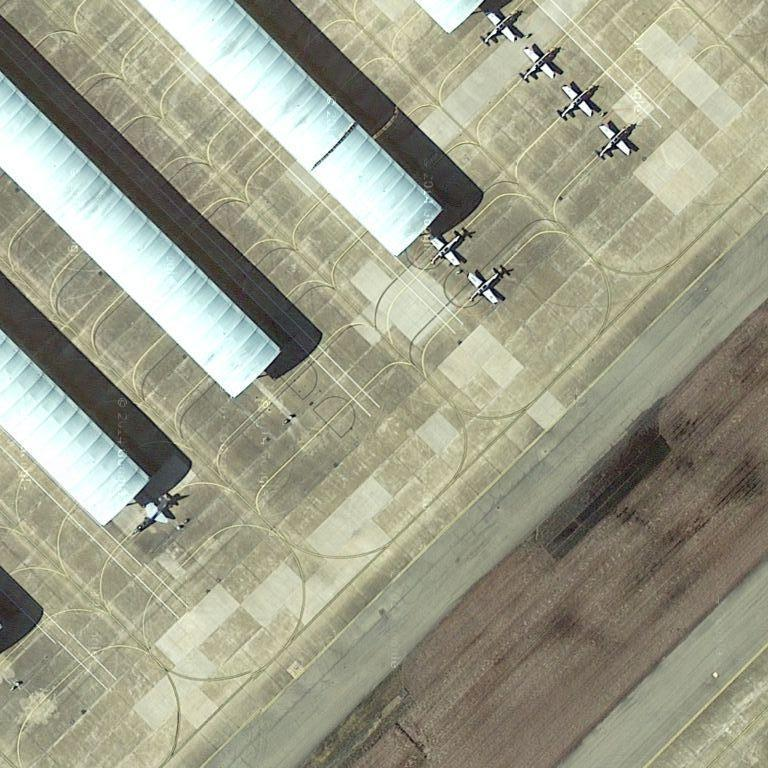plane: (130, 488, 182, 538), (476, 4, 526, 50), (463, 263, 510, 310), (426, 224, 471, 273), (517, 41, 561, 90), (594, 117, 638, 165), (557, 81, 600, 125)
